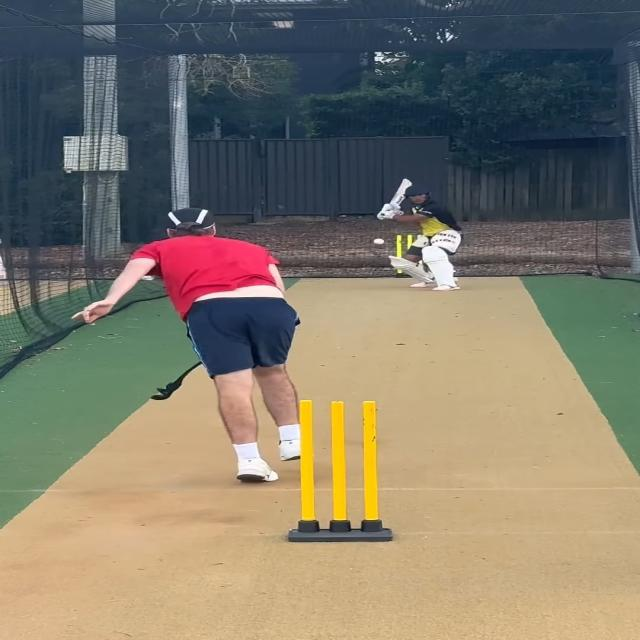ball: (372, 237, 386, 246)
stump: (288, 398, 396, 544)
